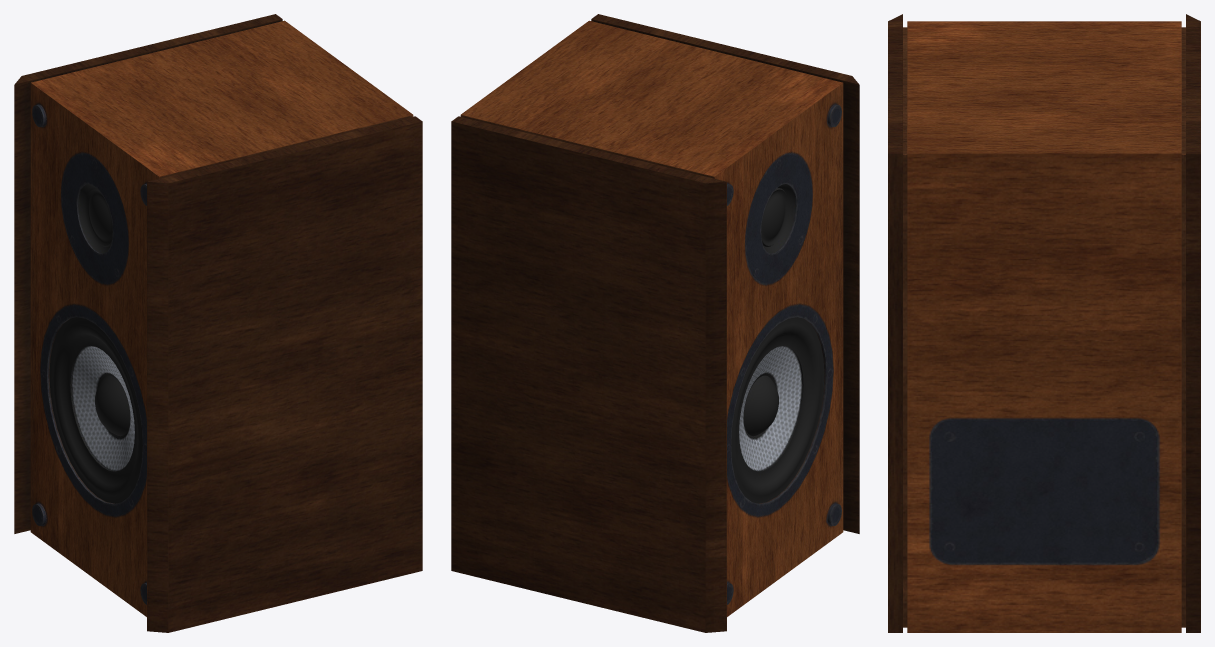
Rendered from speaker.glb.
3 views of the same model, side by side, from view 1: azimuth 30°, elevation 25°; view 2: azimuth 150°, elevation 25°; view 3: azimuth 270°, elevation 25° (orthographic). The views are drawn at different scales.
Visible parts, largest first — view 1: low; view 2: low; view 3: low.
Part boxes in pixels (<box>): low: <box>14,14,422,632</box>; low: <box>451,14,859,632</box>; low: <box>888,14,1200,632</box>.
Bounding box in the file's own units: 1.25 × 2 × 1.18.
1 material, 1 textured.
